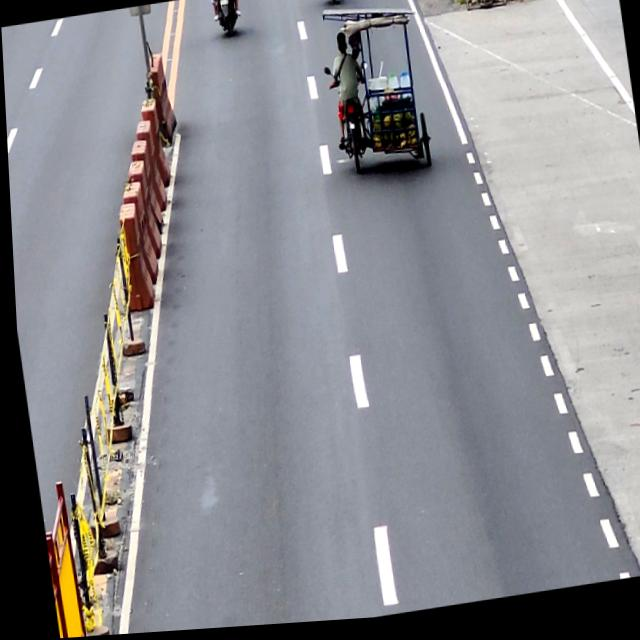Tricycle: (315, 0, 436, 180)
